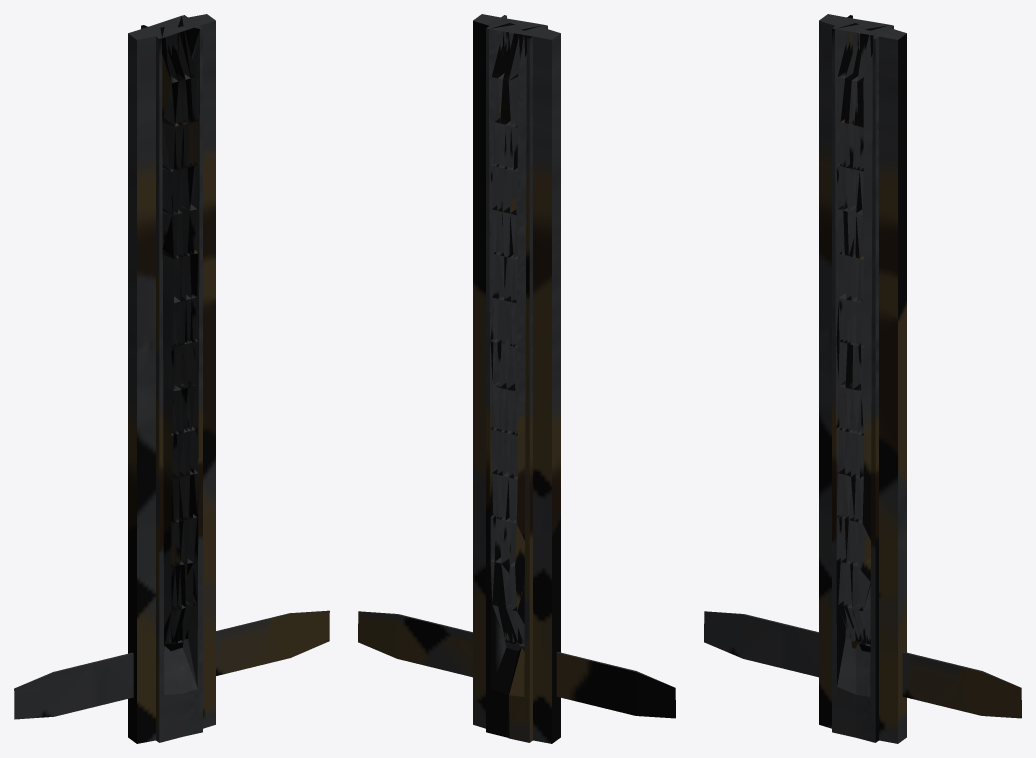
The model's file is hero_sword_r3_v3.glb.
3 renders of one model, left to right at view 1: azimuth 30°, elevation 25°; view 2: azimuth 150°, elevation 25°; view 3: azimuth 330°, elevation 25°, orthographic.
Visible parts, largest first — view 1: hero_sword_lp; view 2: hero_sword_lp; view 3: hero_sword_lp.
Boxes of the visible parts, x1,y1,x2,y2 form: hero_sword_lp: (14,14,329,743); hero_sword_lp: (358,14,675,743); hero_sword_lp: (704,14,1021,743).
Bounding box in the file's own units: 0.8 × 1.7 × 0.1173.
Materials: 1 (1 with a texture image).
